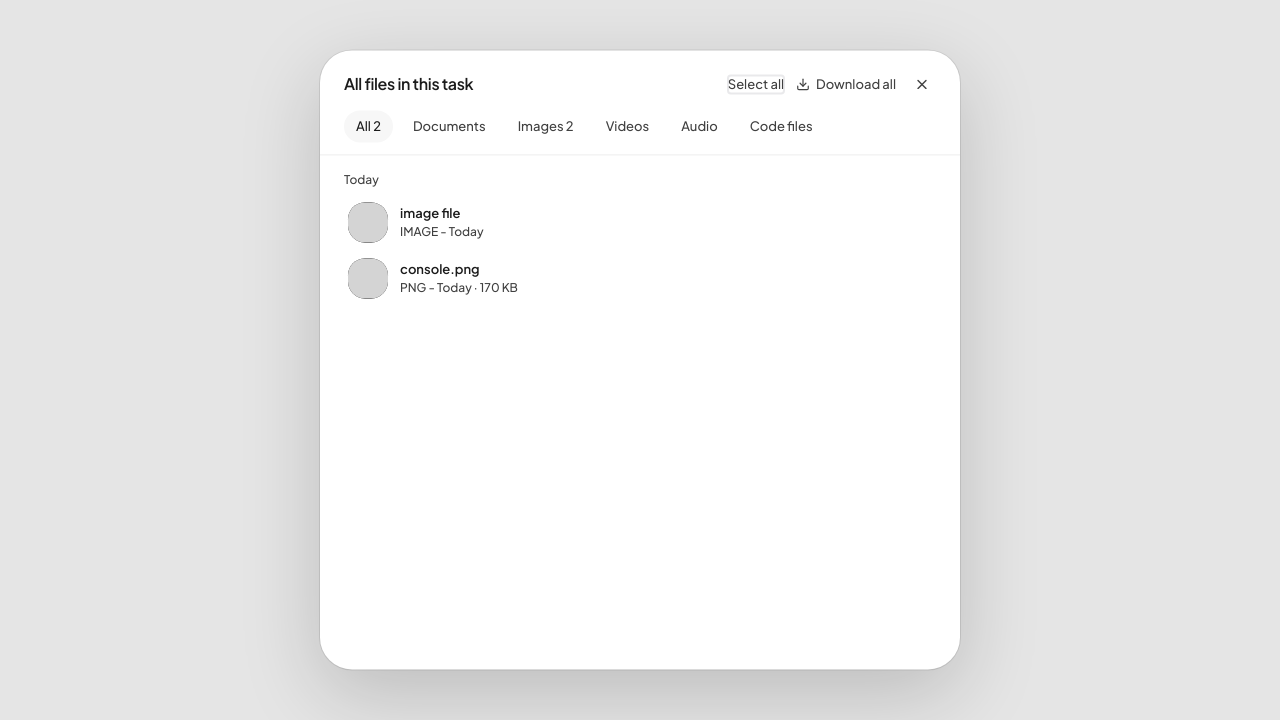
TaskFilesDialog › lists this task’s input and generated files
The width and height of the screenshot is (1280, 720).
Expected: the heading "All files in this task" is shown, [344,73,473,96]
Expected: the text "image file" is shown, [400,206,460,222]
Click the button "Documents" at x=449, y=126, box [401,110,498,142]
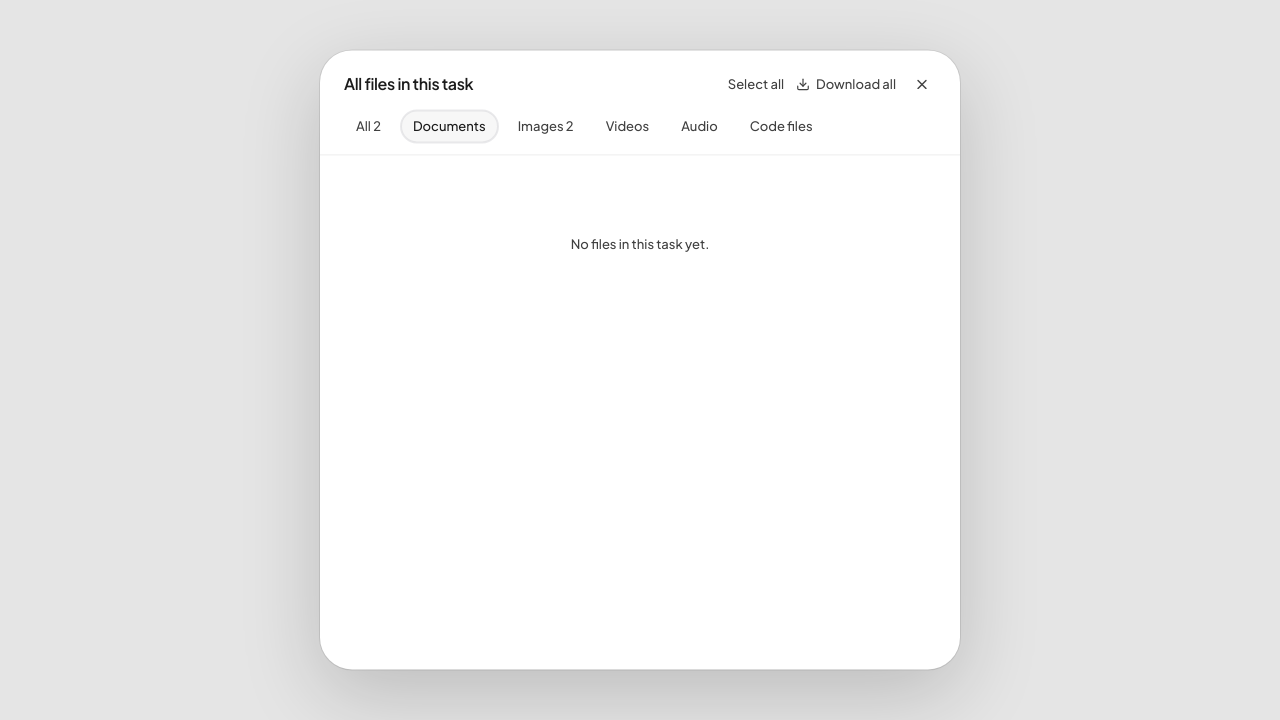
Expected: the button "console.png" is gone
Expected: the text "No files in this task yet." is shown, [571,236,709,252]
